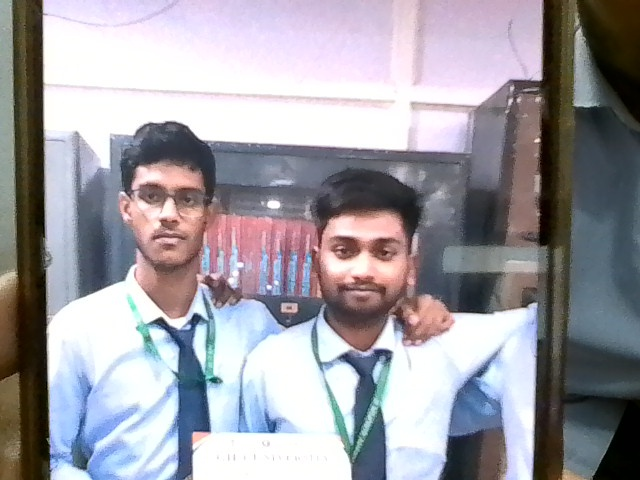real: (110, 121, 227, 287)
